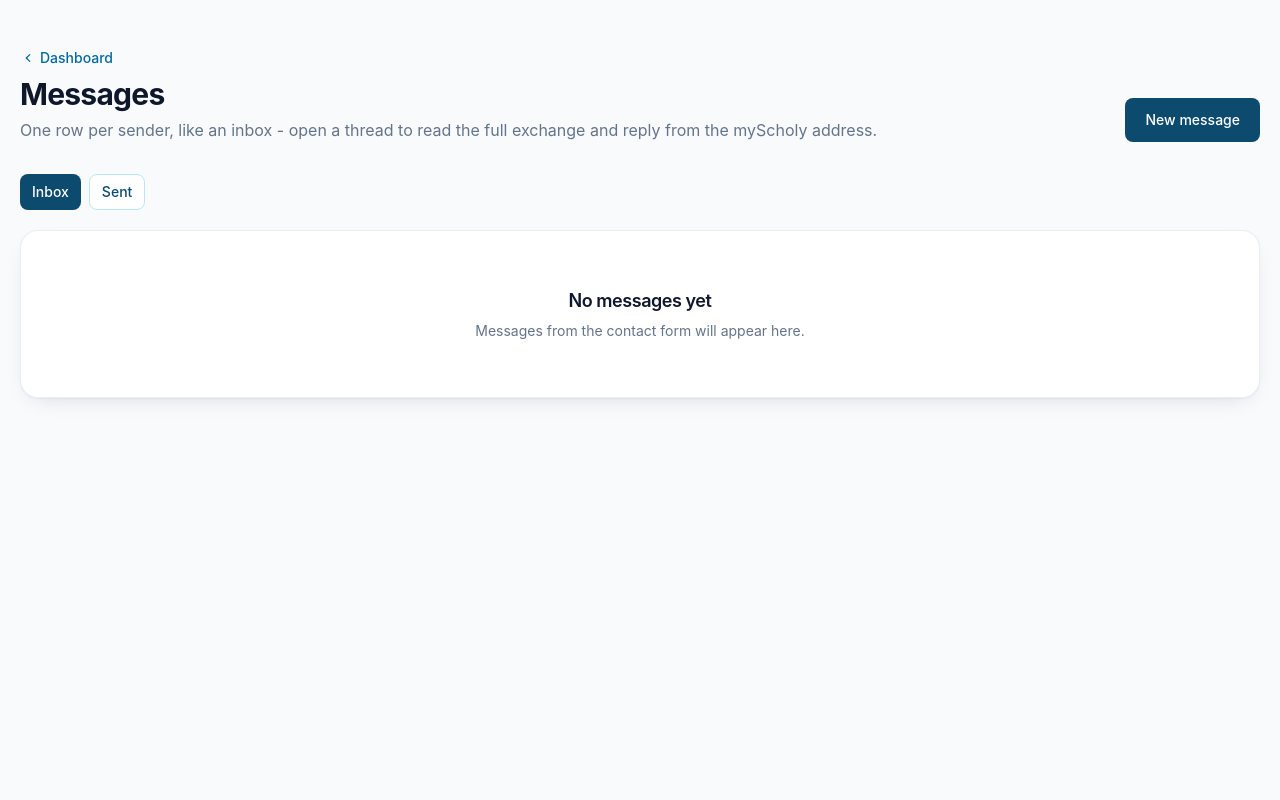
it: AdminMessagesPage › filters recipient groups as you type and broadcasts to the chosen one
Click the button "New message" at (1193, 120), box [1126,98,1260,142]
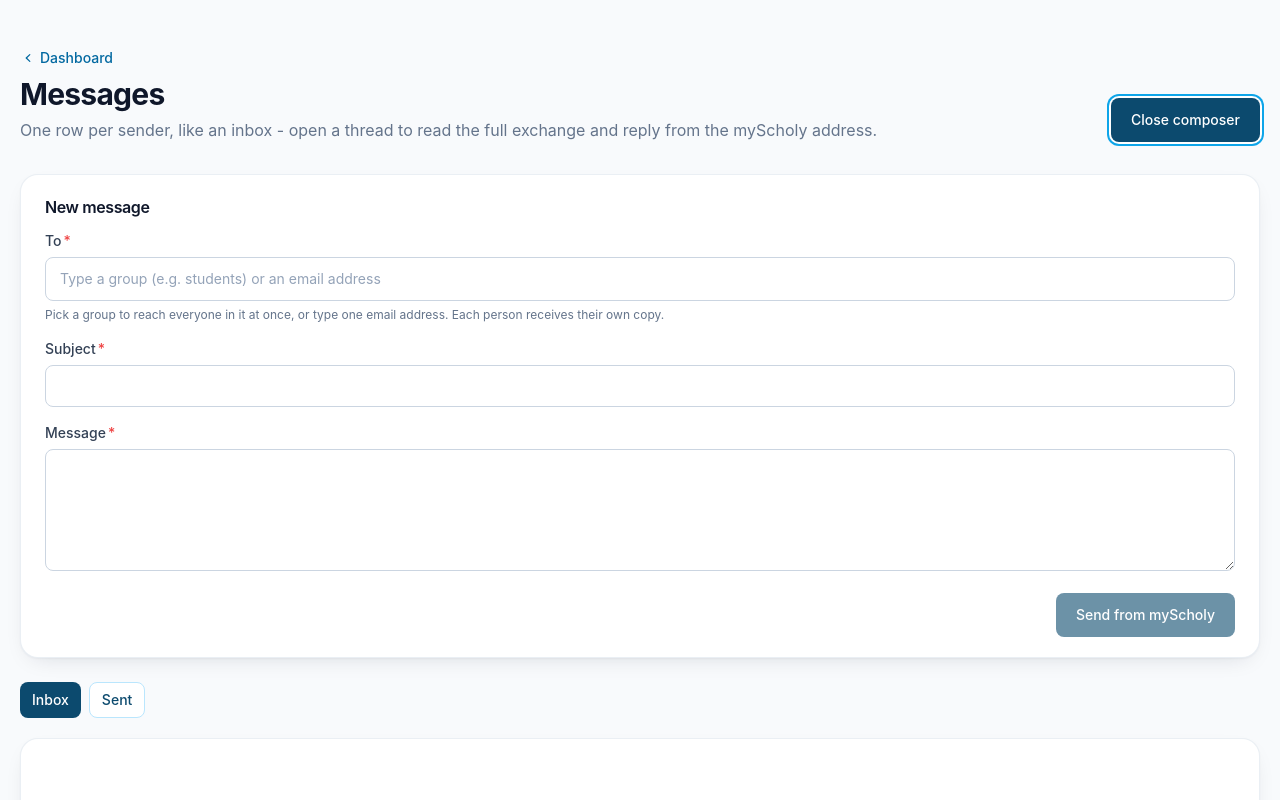
Type "stu" into the dropdown labelled "To*" at (640, 279), box [56,265,1224,293]
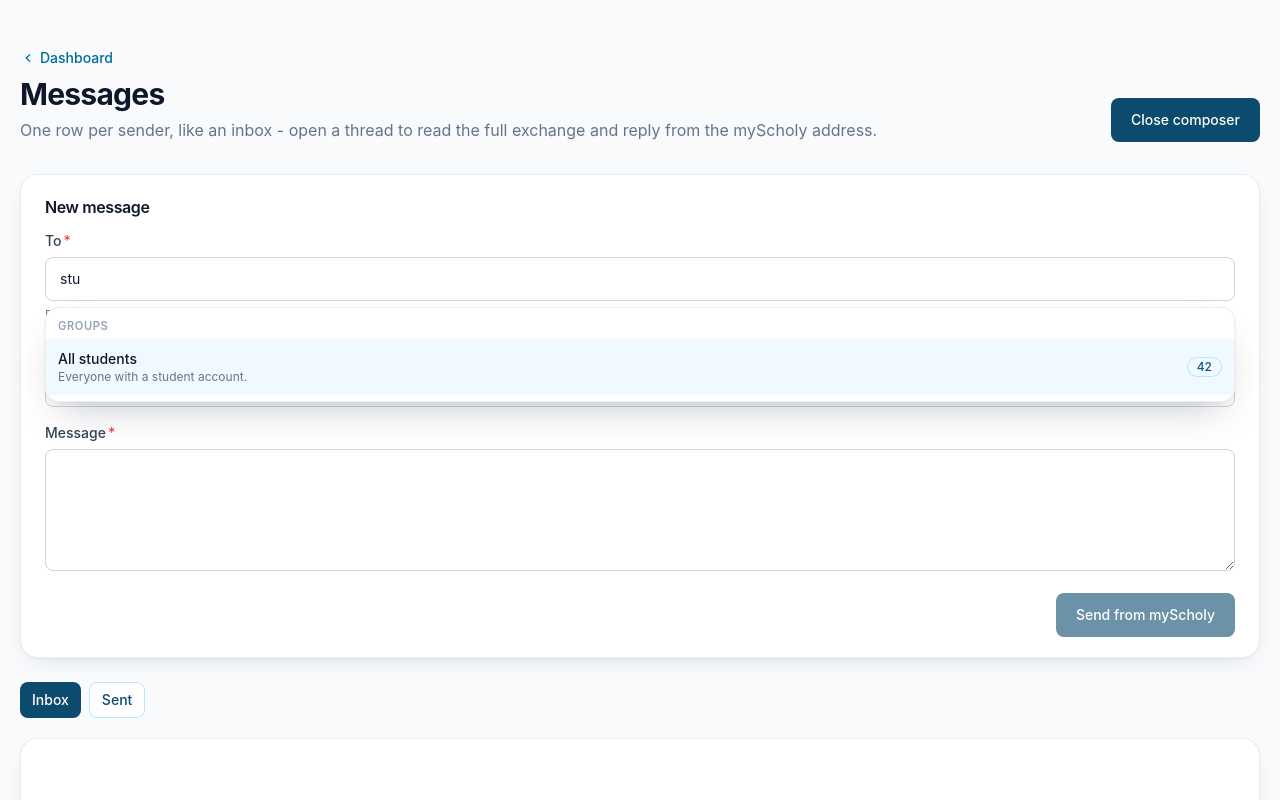
Expected: the option "All students Everyone with a student account. 42" is shown
Click the option "All students Everyone with a student account. 42" at (97, 358), box [46,339,1234,395]
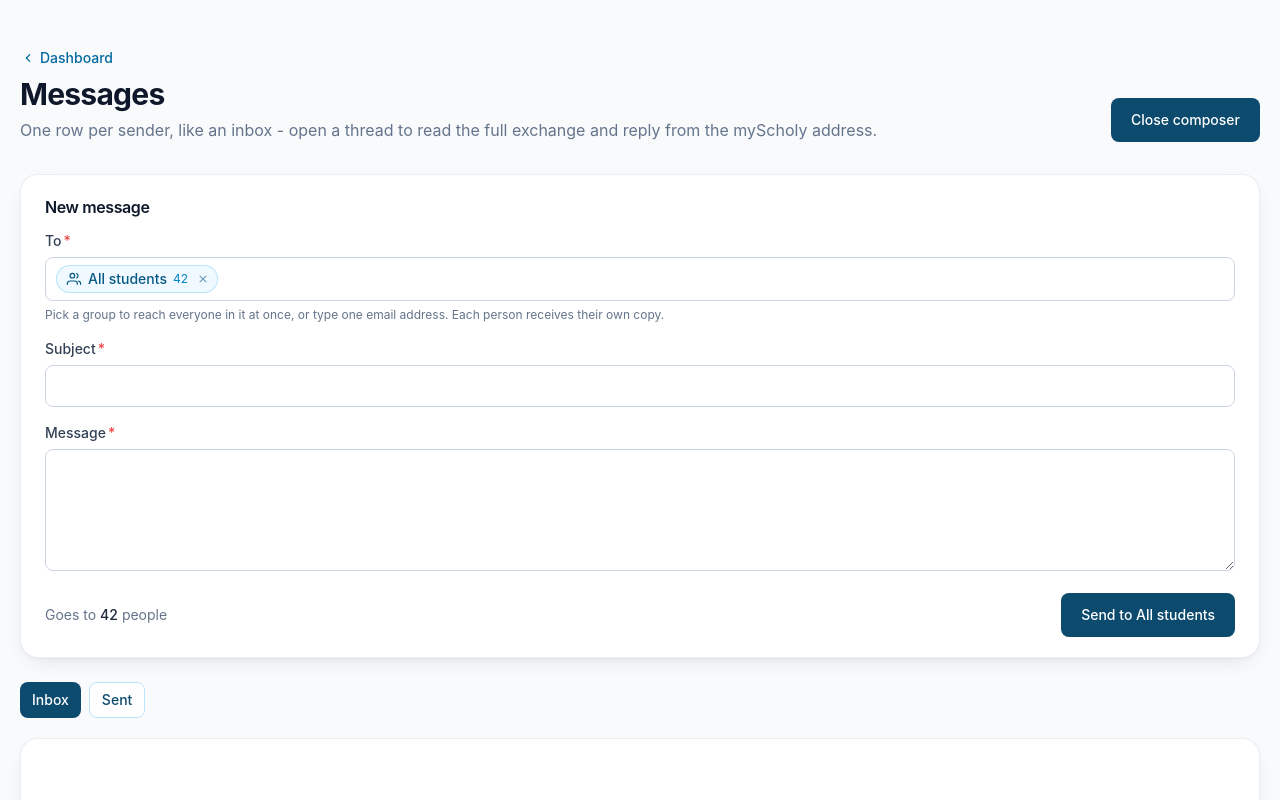
Type "Deadline reminder" into the field labelled "Subject*" at (640, 386), box [45,365,1235,407]
Type "Three awards close Friday." into the text box labelled "Message*" at (640, 510), box [45,449,1235,571]
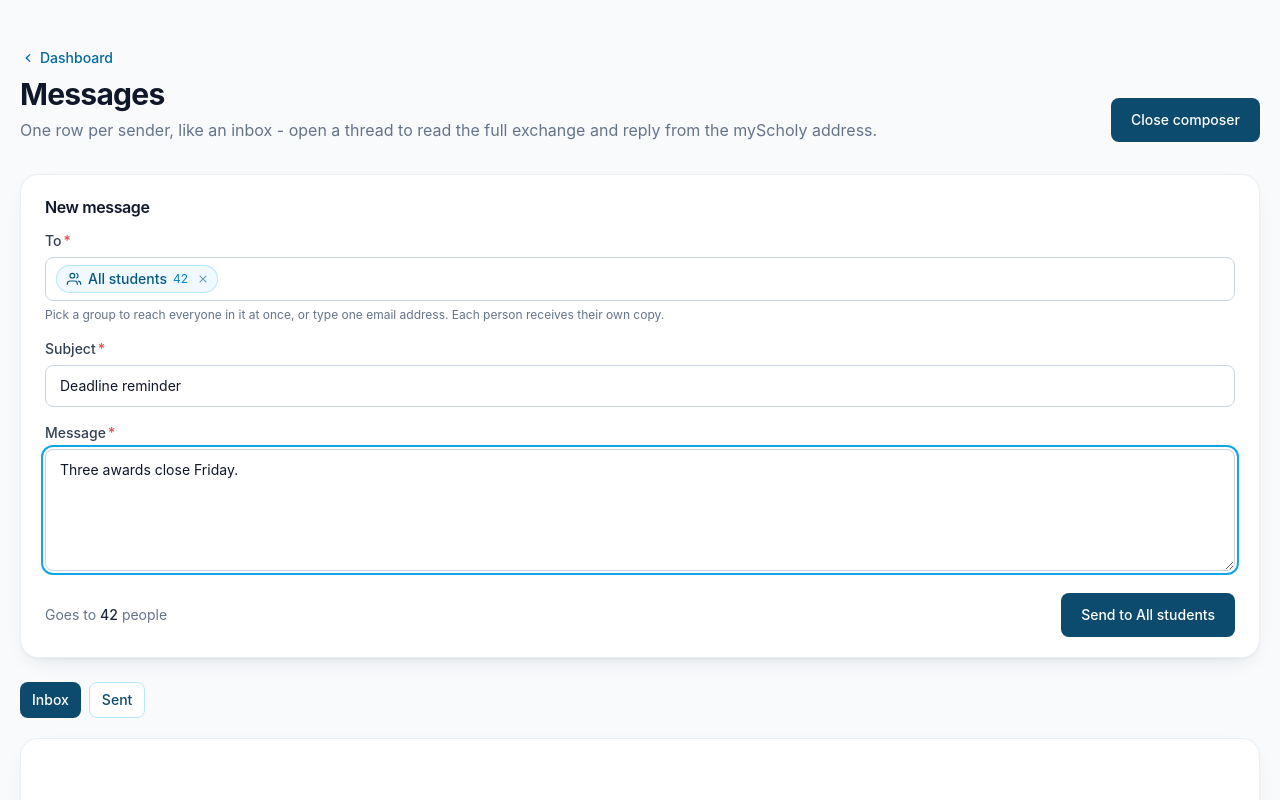
Click the button "Send to All students" at (1148, 615), box [1061,593,1235,637]
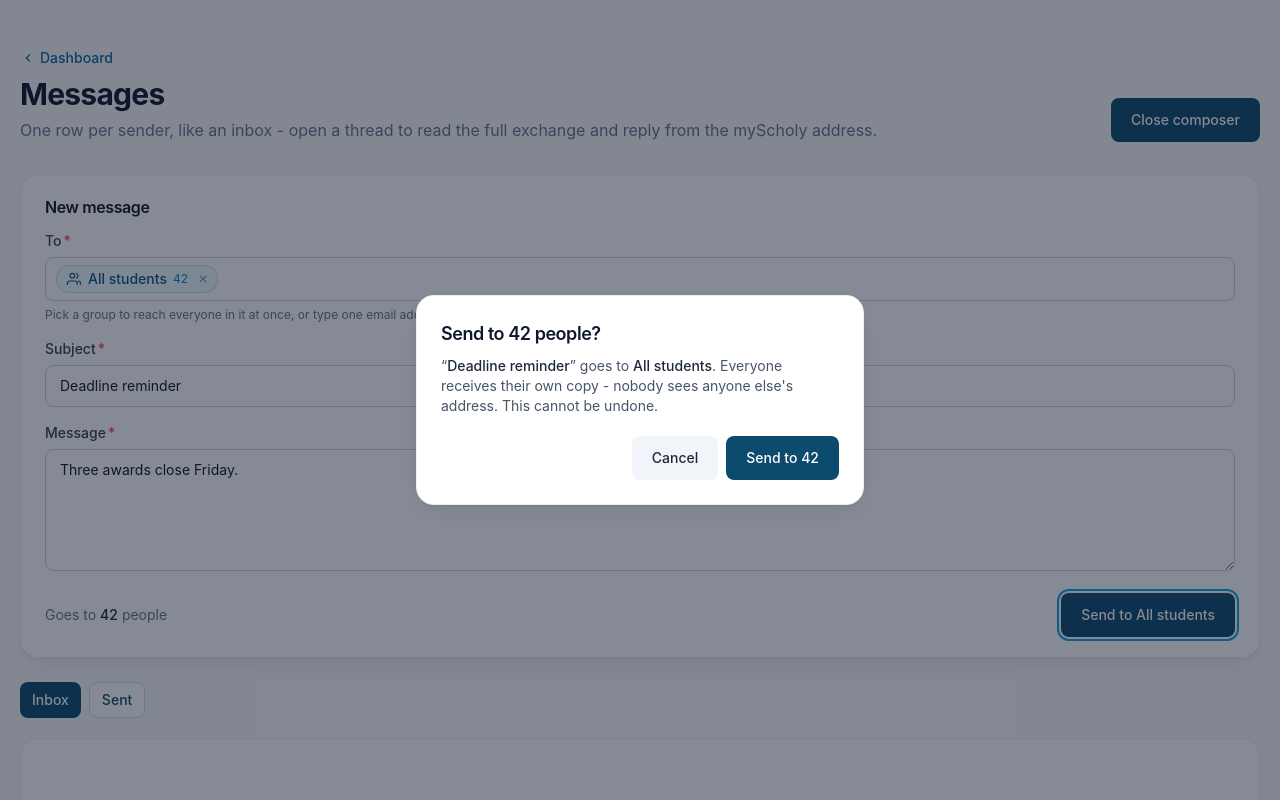
Expected: the dialog shows "42 people"
Expected: the dialog shows "own copy", [441,357,793,414]
Click the button "Send to 42" at (783, 458), box [726,436,839,480]
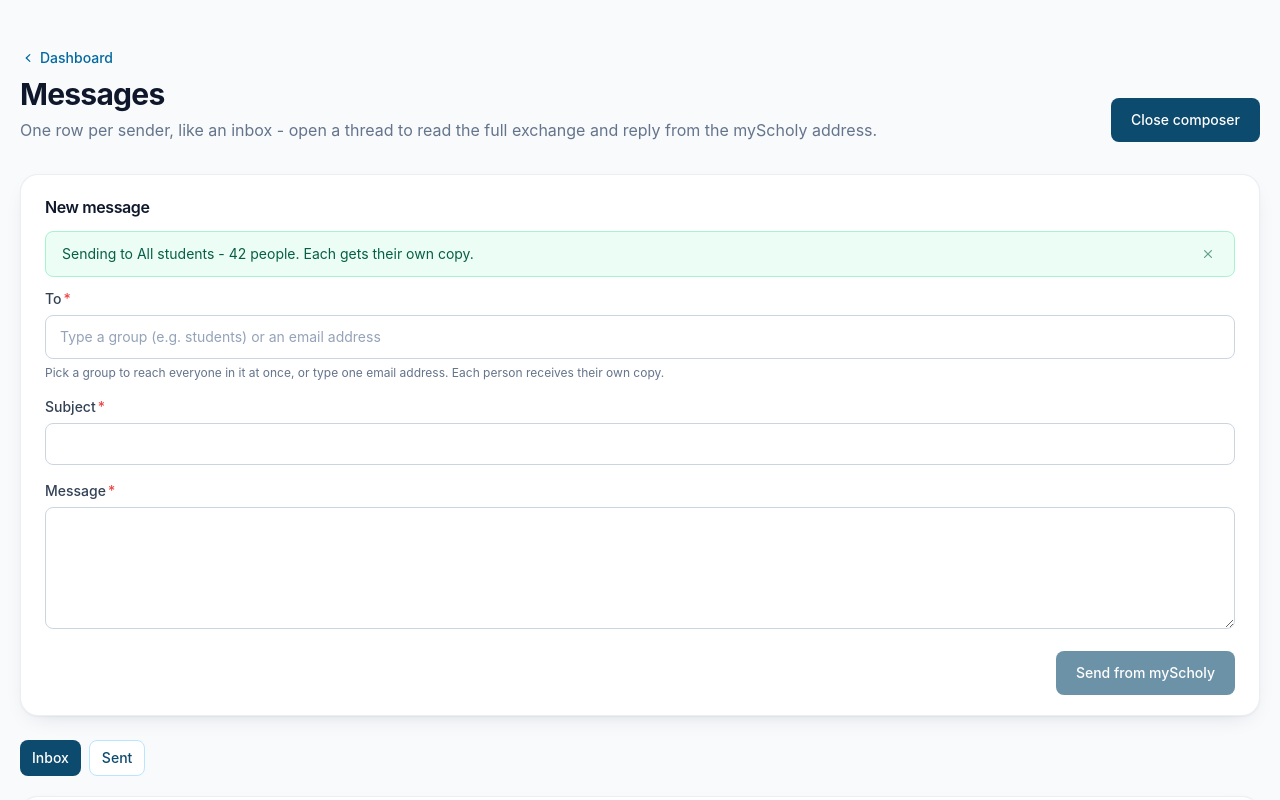
Expected: the text "42 people" is shown, [62,245,474,262]
